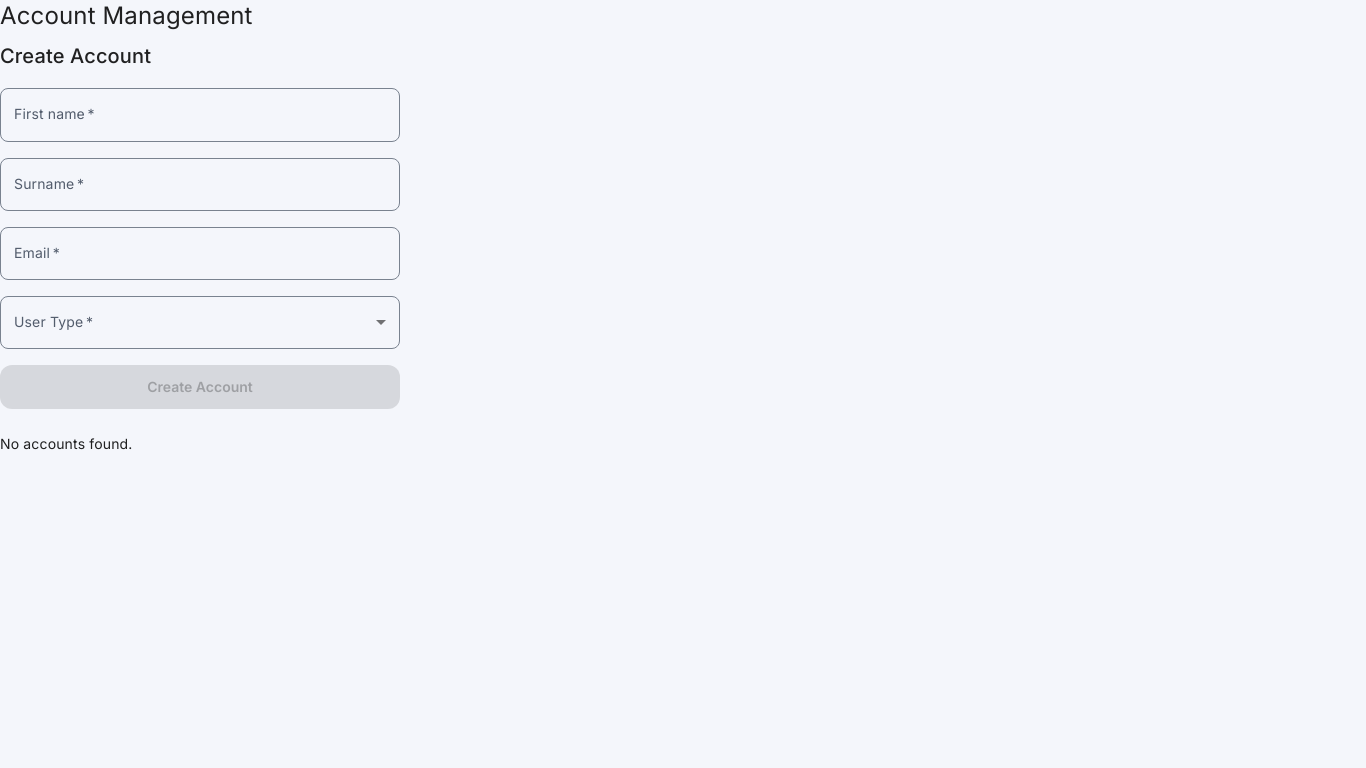
AccountsPage › SR-032.3: duplicate email 409 mapped to email field error
In the field labelled "First name *": (200, 115) left=0, top=88, right=400, bottom=142, type "John"
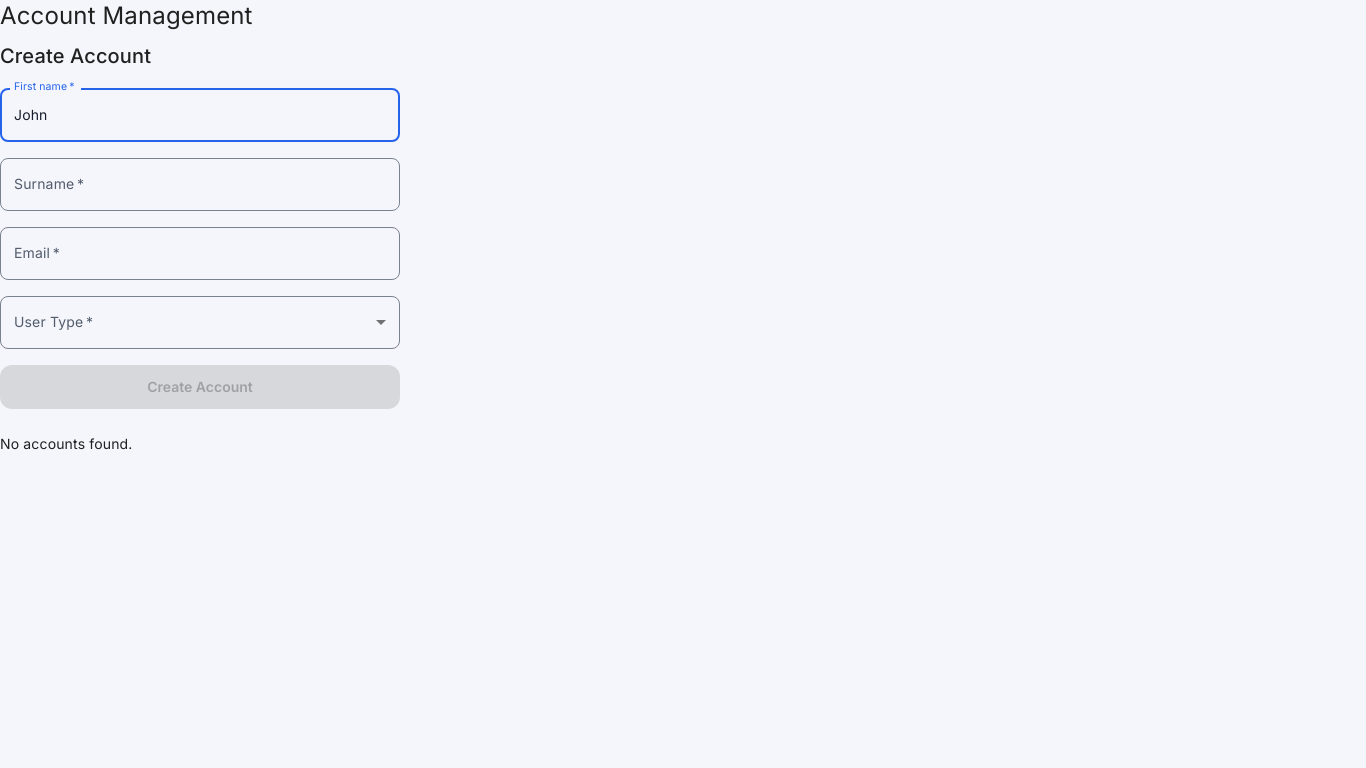
In the field labelled "Surname *": (200, 184) left=0, top=158, right=400, bottom=211, type "Doe"
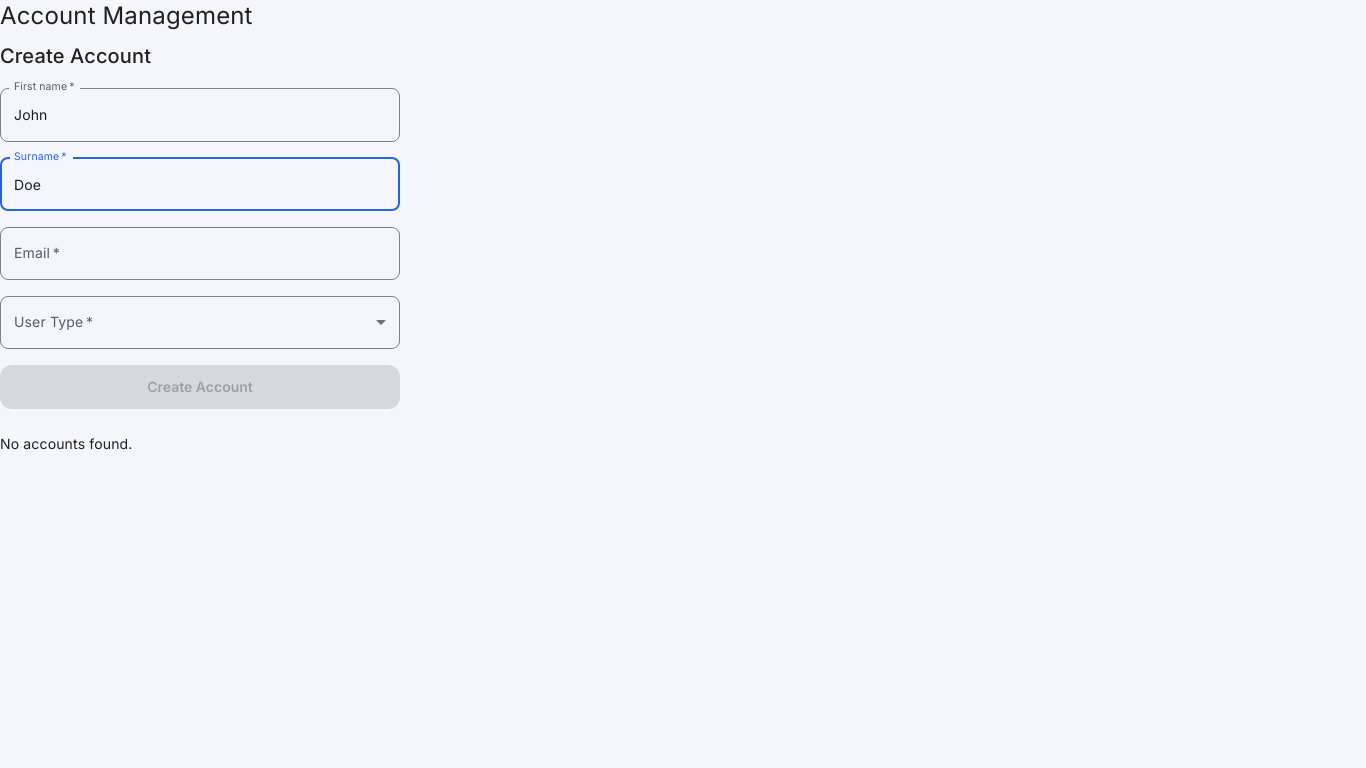
In the field labelled "Email *": (200, 253) left=0, top=227, right=400, bottom=280, type "dup@test.com"
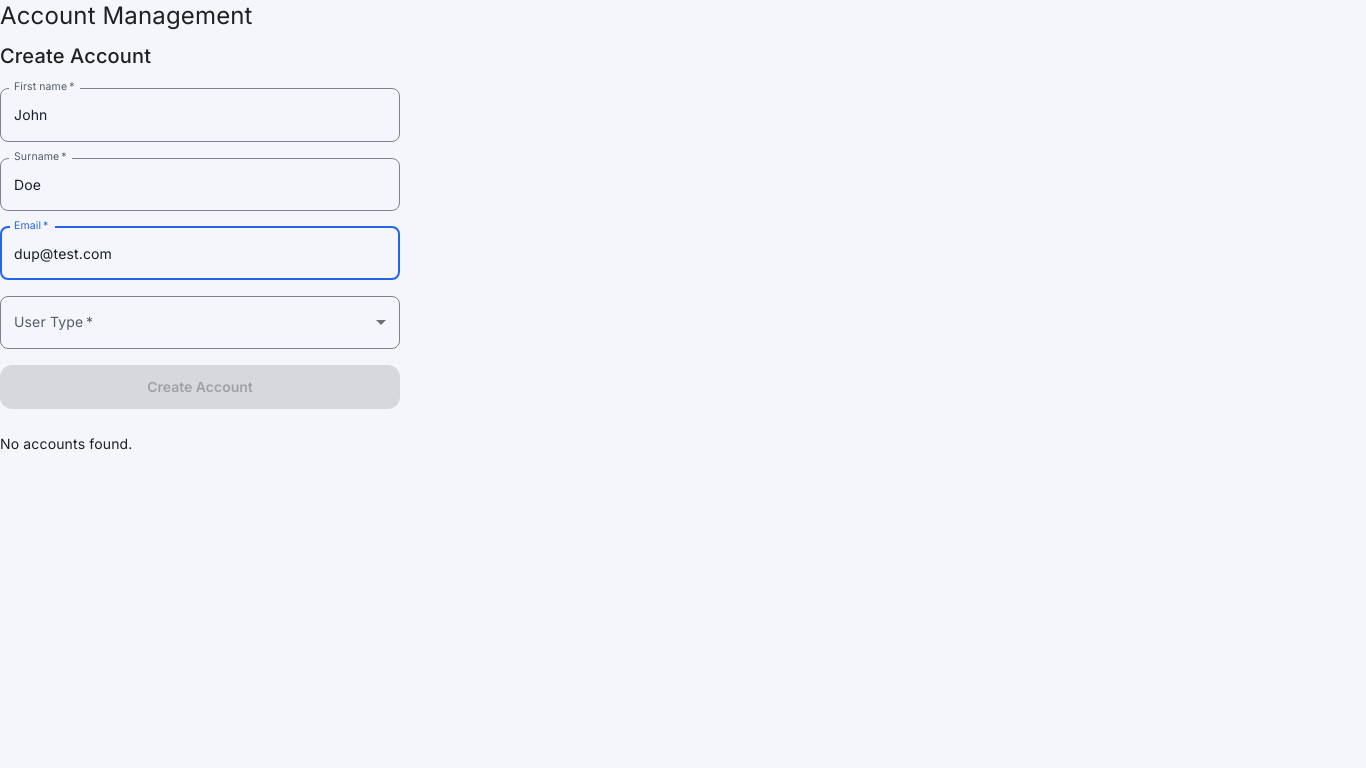
// Select user type
Click the dropdown named "user type": click(200, 322) left=0, top=296, right=400, bottom=349
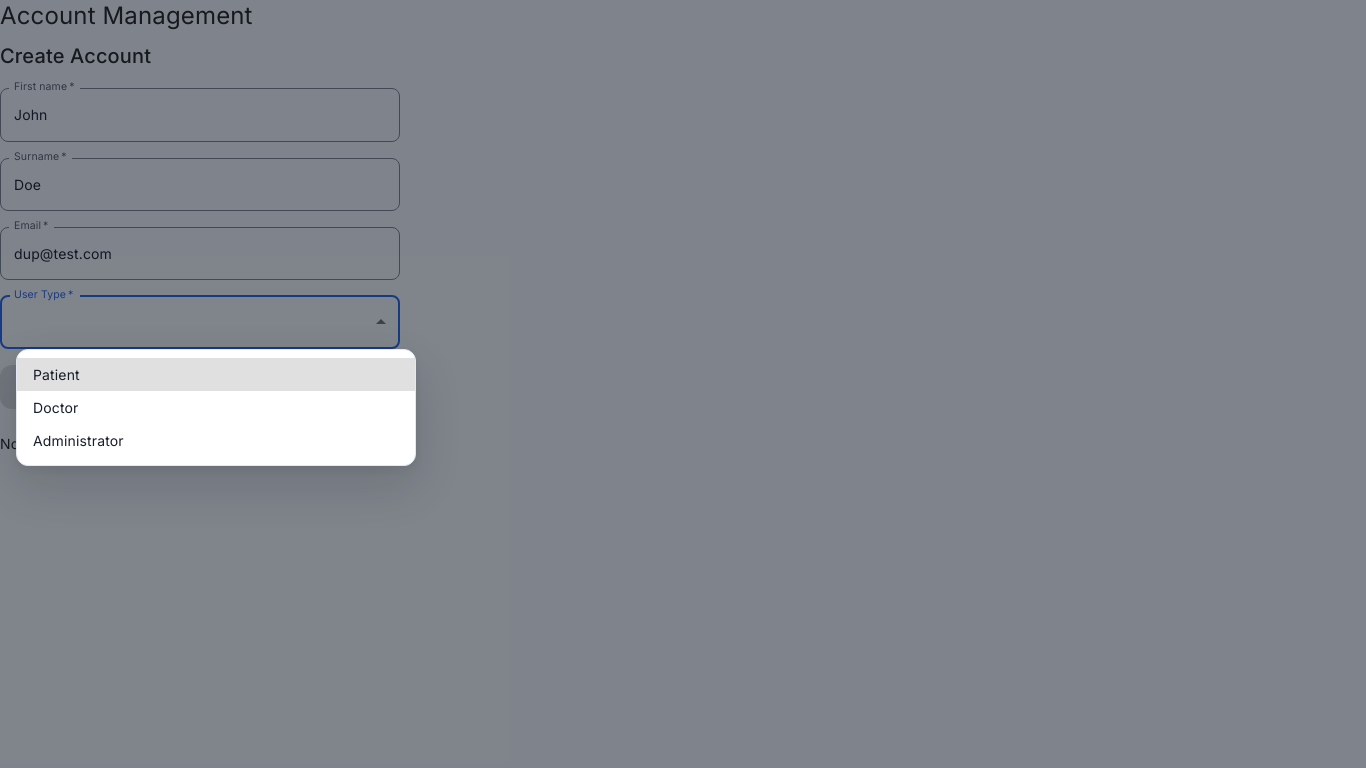
Now the option "Patient" is shown
Click the option "Patient": click(56, 374) left=17, top=358, right=415, bottom=391
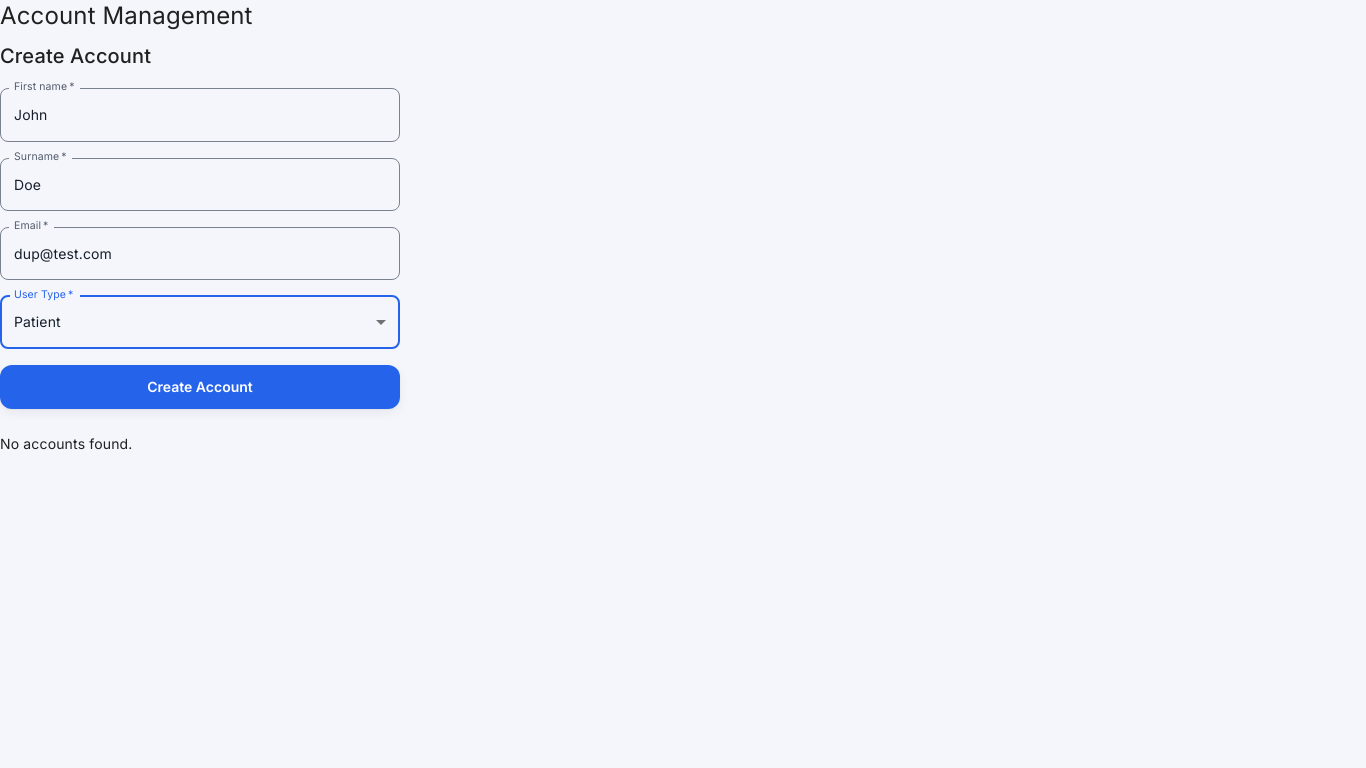
Click the button "Create Account": click(200, 387) left=0, top=365, right=400, bottom=409
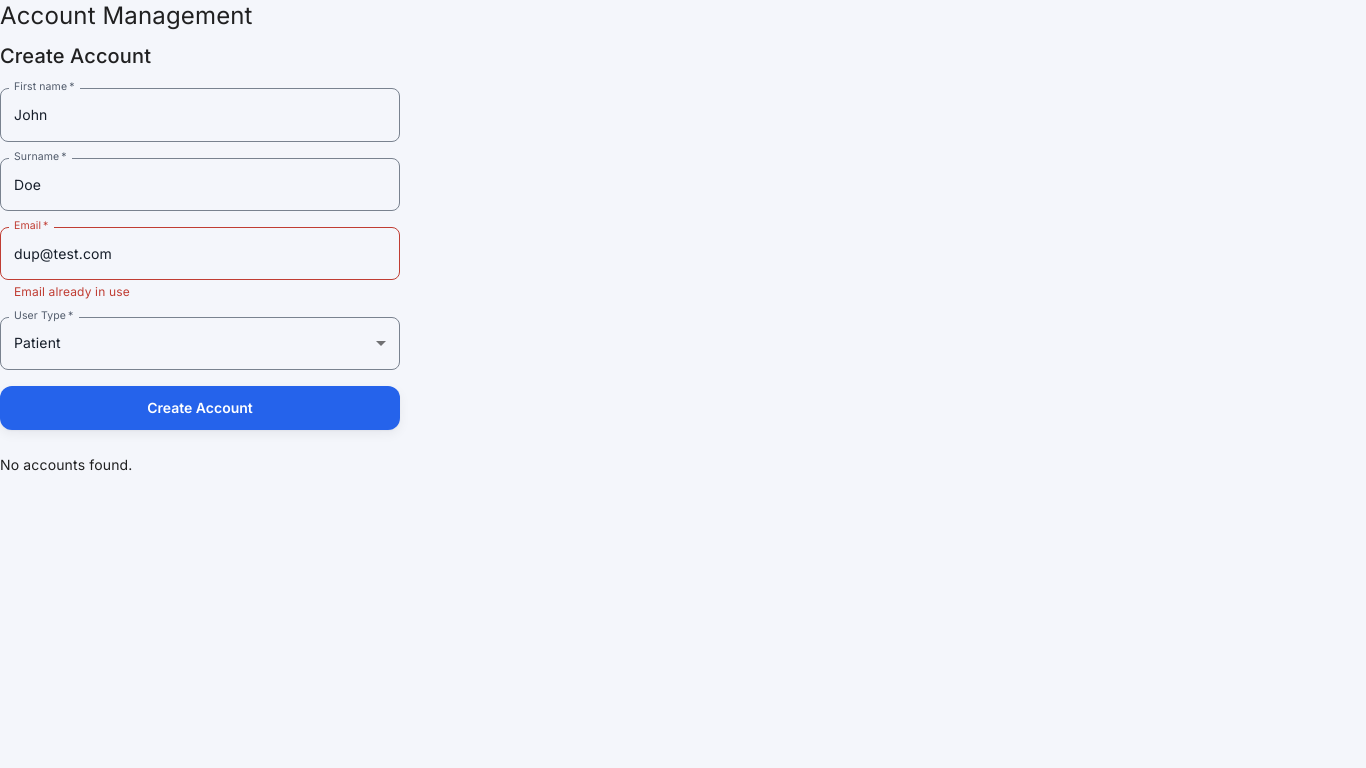
Now the text "Email already in use" is shown, box left=14, top=284, right=130, bottom=299
